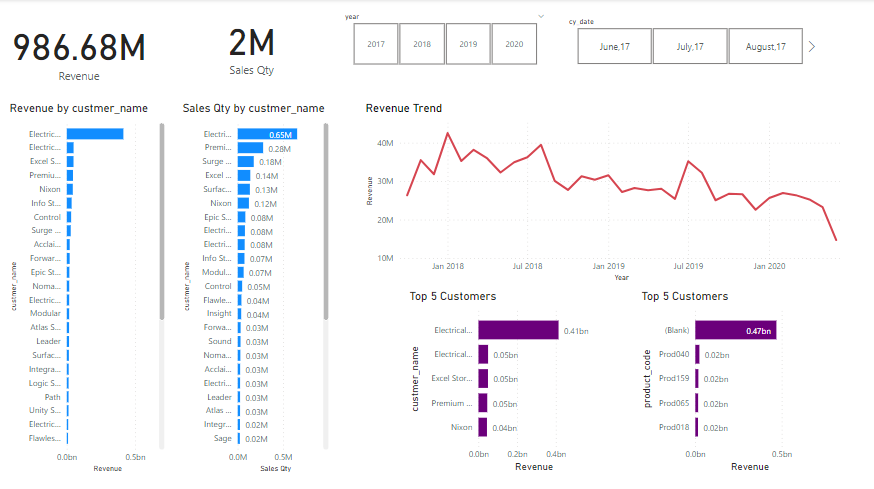

The dashboard page shown, as its layout file describes it:
{"tool":"powerbi","page":{"name":"Page 1","canvas":[1280,720],"ordinal":0},"visuals":[{"type":"card","fields":{"Values":["BaseMeasures.Revenue"]},"box":[0,0,231.4,149.5],"z":0},{"type":"card","fields":{"Values":["BaseMeasures.Sales Qty"]},"box":[231.4,14.4,274.5,103.5],"z":1000},{"type":"clusteredBarChart","fields":{"Y":["BaseMeasures.Sales Qty"],"Category":["sales customers.custmer_name"]},"box":[261.6,149.5,224.2,547.5],"z":2000},{"type":"slicer","fields":{"Values":["sales date.year"]},"box":[491.5,14.4,317.6,87.7],"z":3000},{"type":"slicer","fields":{"Values":["sales date.cy_date"]},"box":[819.2,21.6,379.4,80.5],"z":4000},{"type":"lineChart","title":"Revenue Trend","fields":{"Y":["BaseMeasures.Revenue"],"Category":["sales date.cy_date.Variation.Date Hierarchy.Year","sales date.cy_date.Variation.Date Hierarchy.Month"]},"box":[530.3,149.5,722.9,268.7],"z":5000},{"type":"clusteredBarChart","title":"Top 5 Customers","fields":{"Category":["sales customers.custmer_name"],"Y":["BaseMeasures.Revenue"]},"box":[593.5,424,288.9,273.1],"z":6000},{"type":"clusteredBarChart","title":"Top 5 Customers","fields":{"Category":["sales products.product_code"],"Y":["BaseMeasures.Revenue","BaseMeasures.Revenue"]},"box":[934.1,424,264.4,273.1],"z":7000},{"type":"clusteredBarChart","fields":{"Category":["sales customers.custmer_name"],"Y":["BaseMeasures.Revenue"]},"box":[8.6,149.5,237.1,547.5],"z":8000}]}

Visuals, with their boxes in screenshot pixels (x1, y1, x2, y2), scaled from the page's 1280x720 canvas onto the 874x489 screenshot:
card - BaseMeasures.Revenue: x1=0, y1=0, x2=158, y2=102
card - BaseMeasures.Sales Qty: x1=158, y1=10, x2=345, y2=80
clusteredBarChart - BaseMeasures.Sales Qty x sales customers.custmer_name: x1=179, y1=102, x2=332, y2=473
slicer - sales date.year: x1=336, y1=10, x2=552, y2=69
slicer - sales date.cy_date: x1=559, y1=15, x2=818, y2=69
"Revenue Trend" lineChart: x1=362, y1=102, x2=856, y2=284
"Top 5 Customers" clusteredBarChart: x1=405, y1=288, x2=603, y2=473
"Top 5 Customers" clusteredBarChart: x1=638, y1=288, x2=818, y2=473
clusteredBarChart - sales customers.custmer_name x BaseMeasures.Revenue: x1=6, y1=102, x2=168, y2=473
